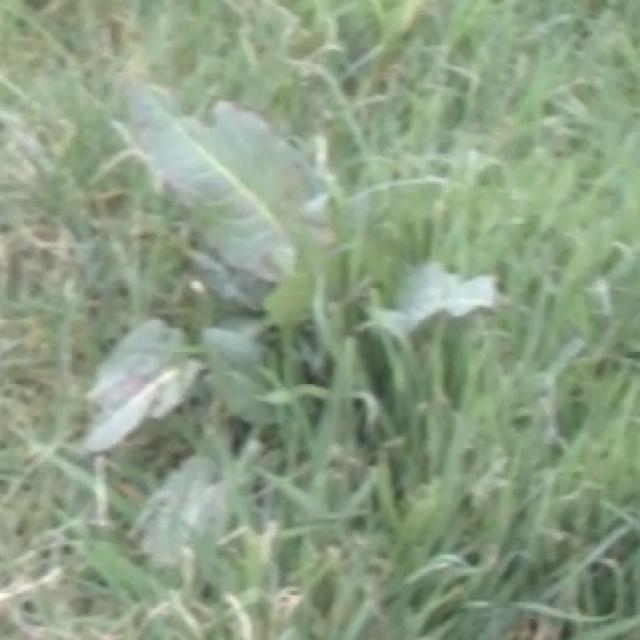organic waste: (47, 55, 515, 533)
